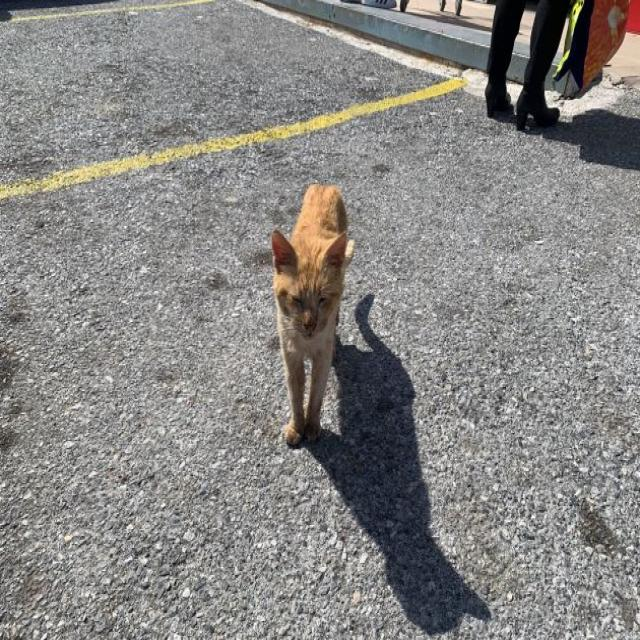cat: (271, 185, 354, 445)
